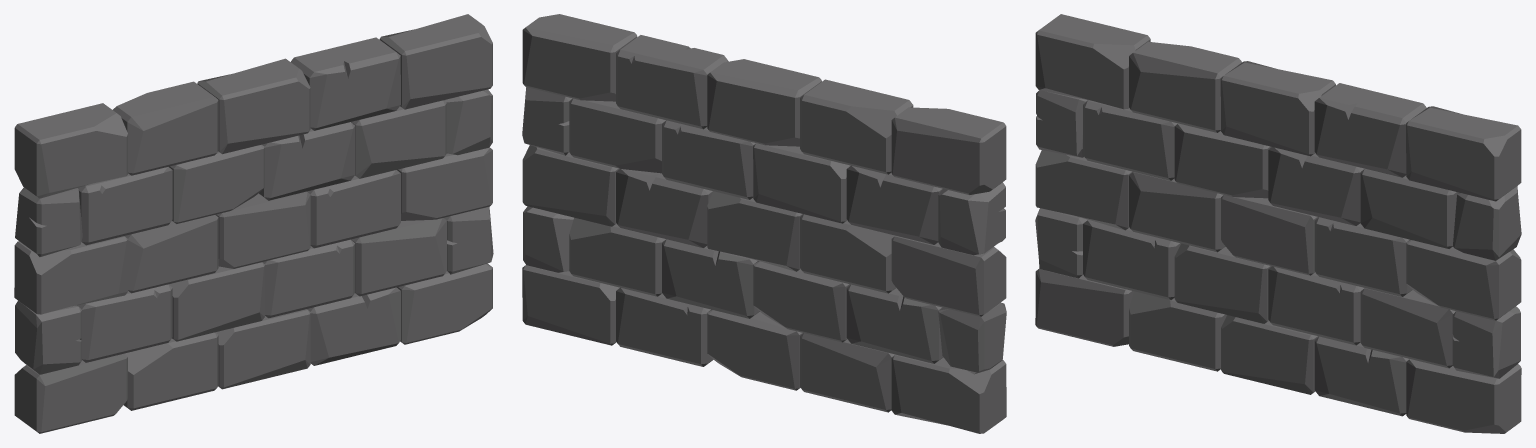
The model's file is Wall.gltf.
The picture shows the model from 3 angles, left to right: view 1: azimuth 30°, elevation 25°; view 2: azimuth 150°, elevation 25°; view 3: azimuth 330°, elevation 25°; orthographic projection.
Visible parts, largest first — view 1: Wall; view 2: Wall; view 3: Wall.
Boxes of the visible parts, bbox=[...] form: Wall: bbox=[14, 14, 493, 433]; Wall: bbox=[522, 14, 1006, 433]; Wall: bbox=[1035, 14, 1521, 433].
Bounding box in the file's own units: 2.6 × 1.6 × 0.2558.
Materials: 1 (1 with a texture image).
